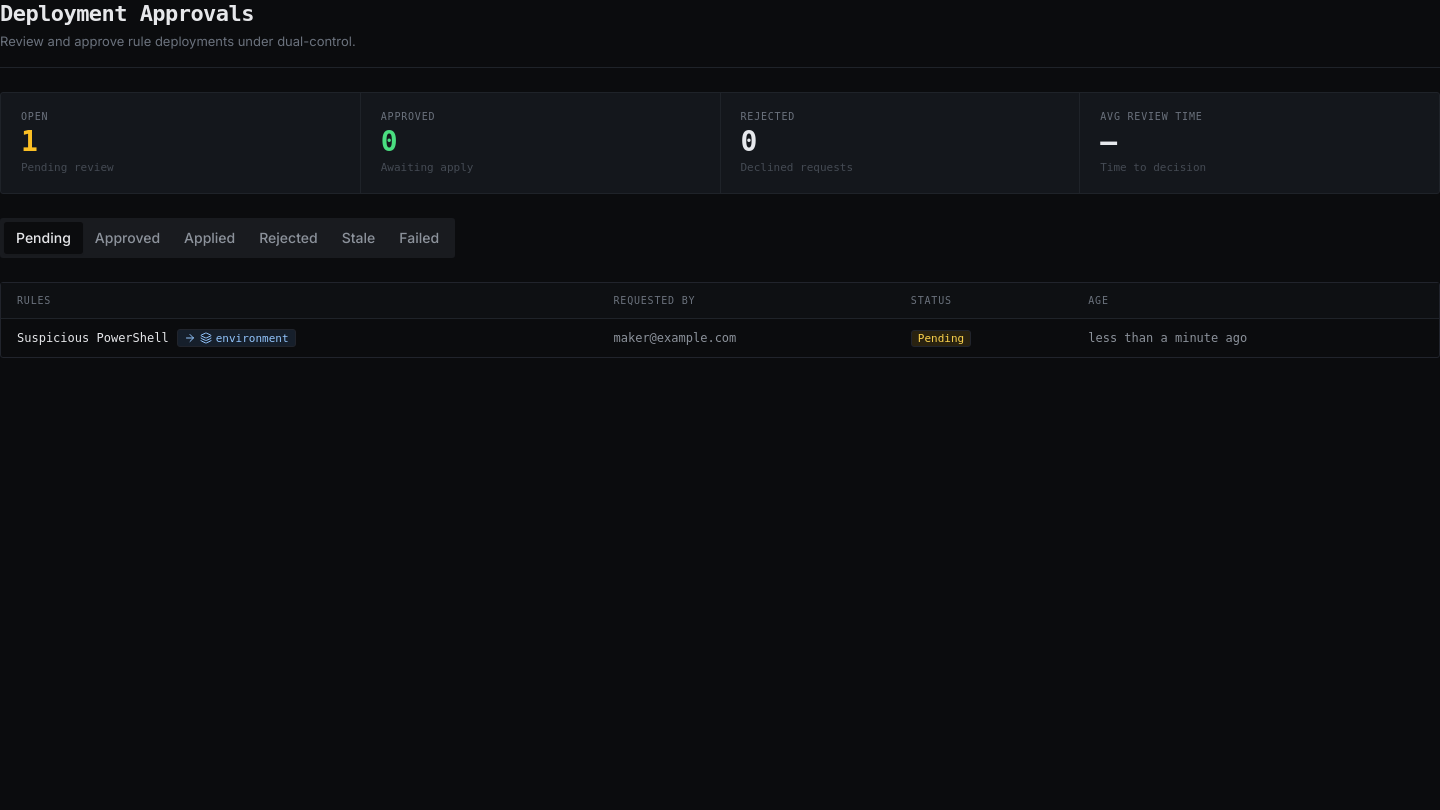
Test: ApprovalsPage — promotion target-env badge › shows the target-env badge in the request detail panel
Click the text "Suspicious PowerShell". click: (93, 338)
box: [17, 329, 169, 347]
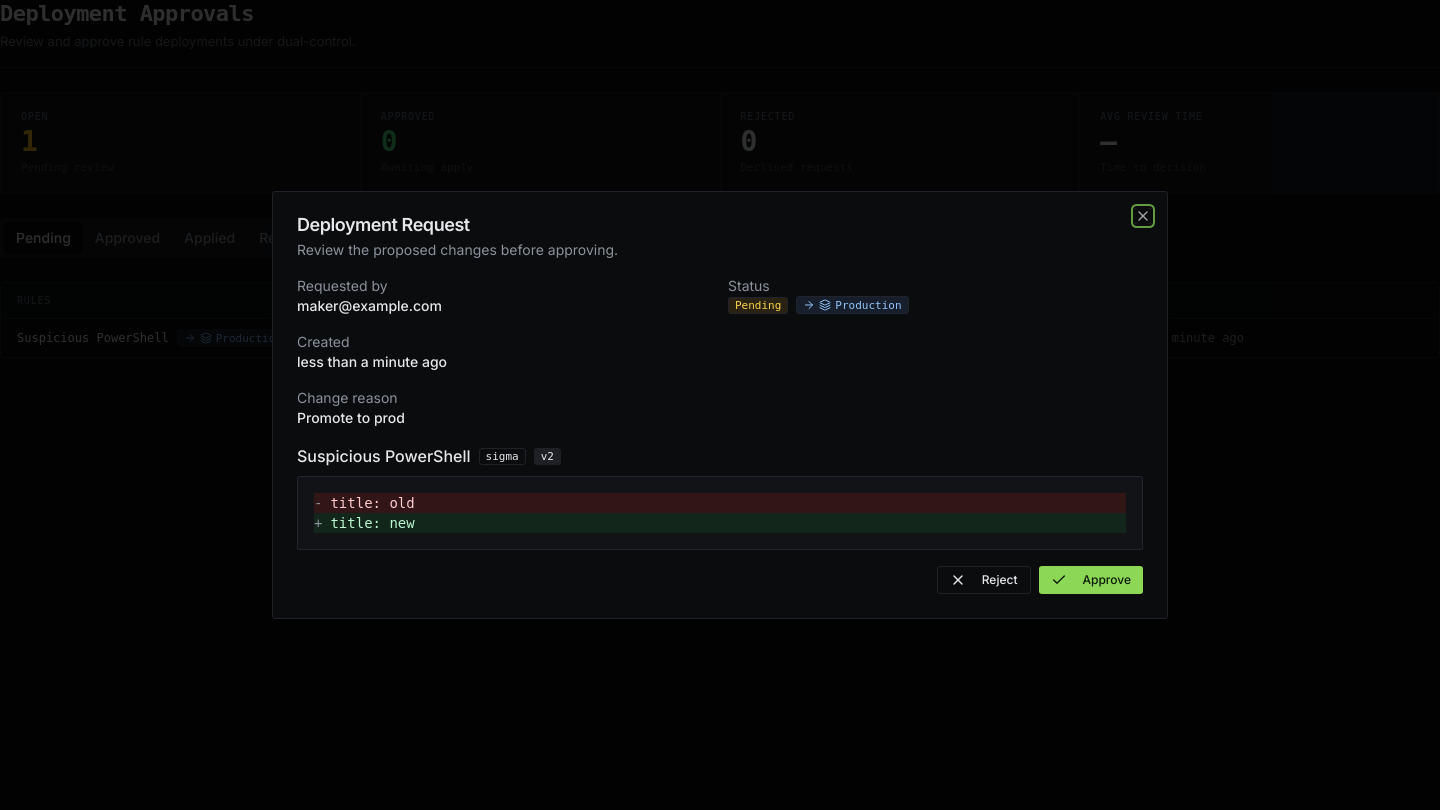
Expected: the element named "Promote to Production" is shown, [796, 296, 909, 314]
